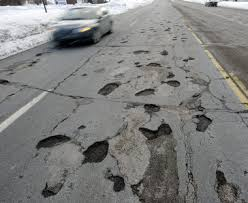pothole: (138, 123, 181, 203), (209, 166, 243, 200), (135, 121, 179, 145), (33, 127, 75, 152), (76, 143, 117, 164), (99, 170, 130, 194), (187, 113, 218, 136), (45, 174, 70, 202), (133, 83, 159, 101), (99, 78, 121, 99), (129, 47, 152, 59), (164, 78, 185, 91), (181, 53, 197, 65), (146, 62, 161, 68)
